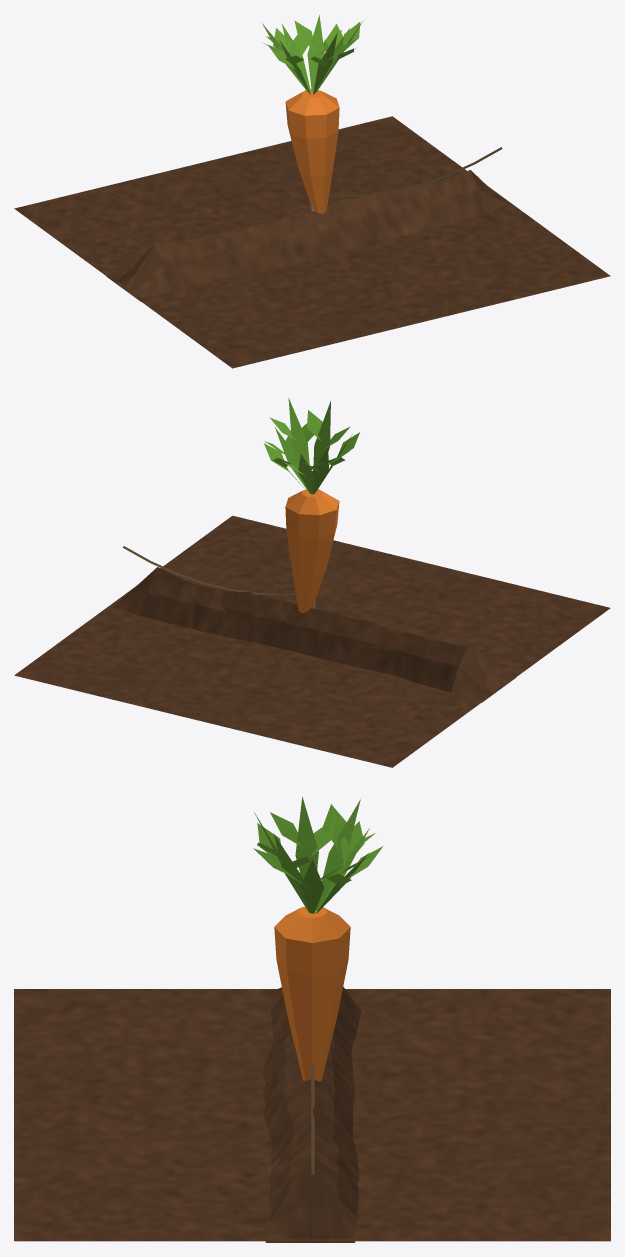
Rendered from garden-kit.glb.
3 views of the same model, one above another, from view 1: azimuth 30°, elevation 25°; view 2: azimuth 150°, elevation 25°; view 3: azimuth 270°, elevation 25° (orthographic). The views are drawn at different scales.
Parts seen in each view (by area): view 1: SOL_LOD0, MARQUEUR_LOD0, BUTTE_1_LOD0, BUTTE_3_LOD0, BUTTE_2_LOD0, CORDE_LOD0; view 2: SOL_LOD0, MARQUEUR_LOD0, BUTTE_1_LOD0, BUTTE_3_LOD0, BUTTE_2_LOD0, CORDE_LOD0; view 3: SOL_LOD0, MARQUEUR_LOD0, BUTTE_3_LOD0, BUTTE_1_LOD0, BUTTE_2_LOD0.
Boxes of the visible parts, bbox=[...] form: SOL_LOD0: bbox=[14, 116, 610, 368]; MARQUEUR_LOD0: bbox=[262, 15, 362, 213]; BUTTE_1_LOD0: bbox=[117, 191, 467, 301]; BUTTE_3_LOD0: bbox=[108, 170, 506, 301]; BUTTE_2_LOD0: bbox=[106, 180, 440, 293]; CORDE_LOD0: bbox=[329, 147, 502, 197]; SOL_LOD0: bbox=[14, 515, 610, 767]; MARQUEUR_LOD0: bbox=[264, 398, 359, 613]; BUTTE_1_LOD0: bbox=[113, 584, 515, 700]; BUTTE_3_LOD0: bbox=[113, 567, 516, 681]; BUTTE_2_LOD0: bbox=[128, 577, 499, 702]; CORDE_LOD0: bbox=[123, 546, 295, 595]; SOL_LOD0: bbox=[14, 989, 610, 1241]; MARQUEUR_LOD0: bbox=[253, 797, 383, 1081]; BUTTE_3_LOD0: bbox=[262, 988, 359, 1242]; BUTTE_1_LOD0: bbox=[263, 987, 361, 1242]; BUTTE_2_LOD0: bbox=[262, 993, 358, 1242].
Size of what is drawn, in the model's own units: 2.5 by 1.45 by 2.5.
Materials: 4 (2 with a texture image).
